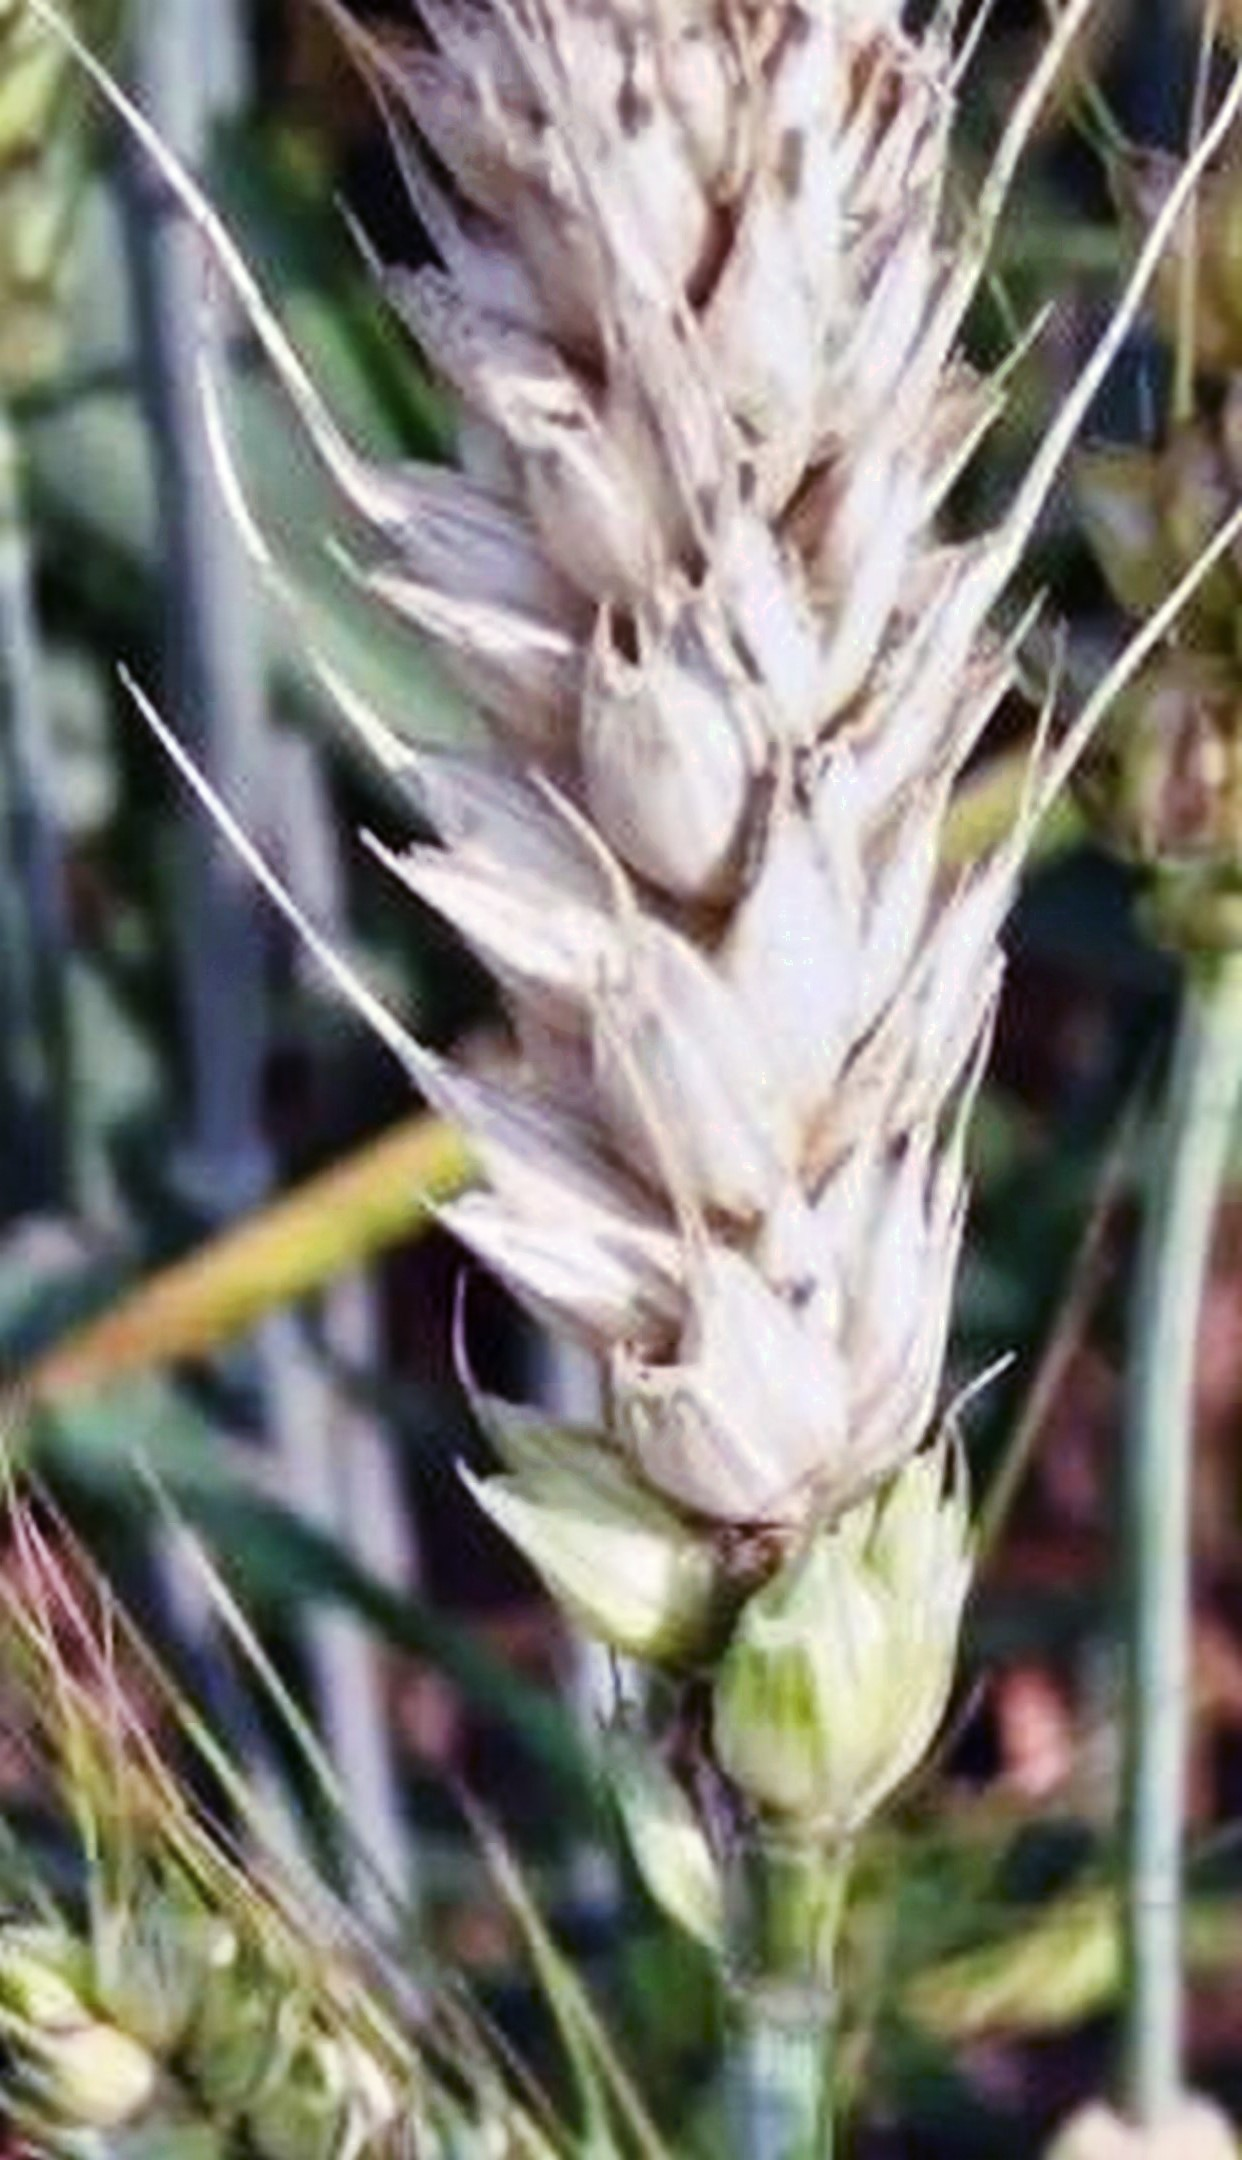Wheat scab: (358, 15, 1005, 1973)
